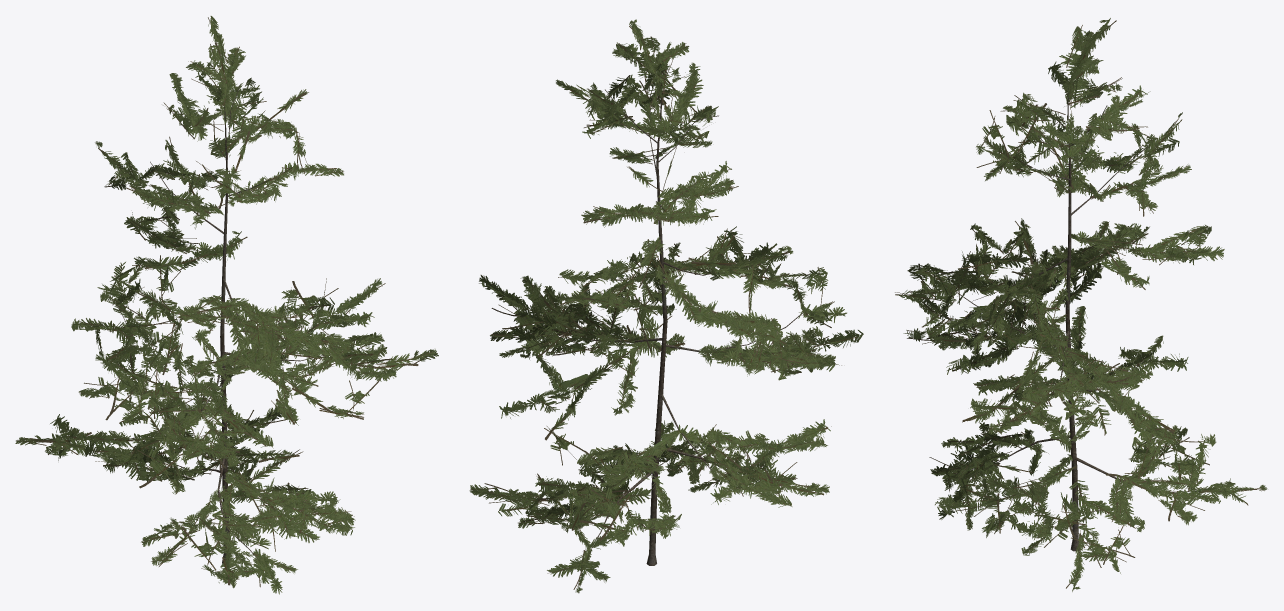
The picture shows the model from 3 angles, left to right: view 1: azimuth 30°, elevation 25°; view 2: azimuth 150°, elevation 25°; view 3: azimuth 270°, elevation 25°; orthographic projection. The views are drawn at different scales.
Parts seen in each view (by area): view 1: fir_sapling__a_lod0; view 2: fir_sapling__a_lod0; view 3: fir_sapling__a_lod0.
Boxes of the visible parts, x1,y1,x2,y2 form: fir_sapling__a_lod0: [15, 16, 438, 594]; fir_sapling__a_lod0: [469, 19, 863, 593]; fir_sapling__a_lod0: [895, 18, 1267, 591].
Bounding box in the file's own units: 0.869 × 1.3 × 0.8287.
2 materials, 2 textured.
